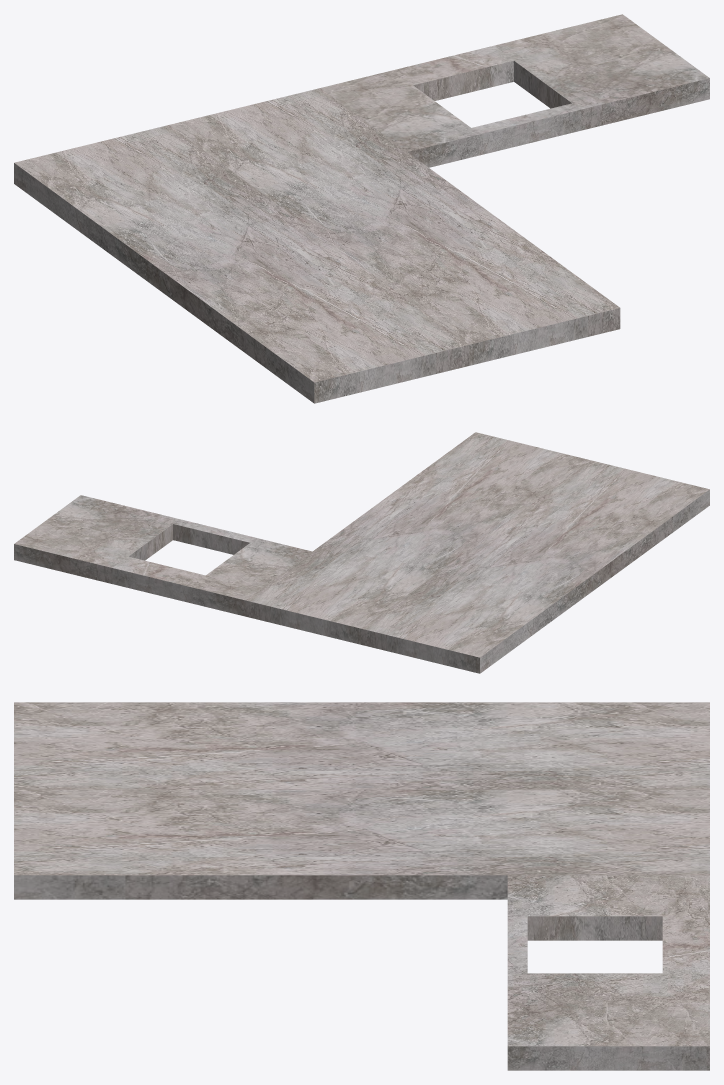
File: tiber3.glb
3 renders of one model, top to bottom at view 1: azimuth 30°, elevation 25°; view 2: azimuth 150°, elevation 25°; view 3: azimuth 270°, elevation 25°, orthographic. The views are drawn at different scales.
Visible parts, largest first — view 1: IfcSlab/encimera.022, IfcSlab/encimera.001, IfcSlab/encimera; view 2: IfcSlab/encimera.022, IfcSlab/encimera.001, IfcSlab/encimera; view 3: IfcSlab/encimera.001, IfcSlab/encimera.022, IfcSlab/encimera.
Boxes of the visible parts, bbox=[...] form: IfcSlab/encimera.022: bbox=[14, 125, 469, 403]; IfcSlab/encimera.001: bbox=[169, 88, 620, 365]; IfcSlab/encimera: bbox=[320, 14, 709, 167]; IfcSlab/encimera.022: bbox=[361, 460, 709, 673]; IfcSlab/encimera.001: bbox=[245, 432, 590, 644]; IfcSlab/encimera: bbox=[14, 495, 311, 616]; IfcSlab/encimera.001: bbox=[14, 789, 709, 899]; IfcSlab/encimera.022: bbox=[14, 702, 709, 789]; IfcSlab/encimera: bbox=[507, 875, 709, 1070].
Bounding box in the file's own units: 2.41 × 0.08 × 2.06.
Materials: 1 (1 with a texture image).
